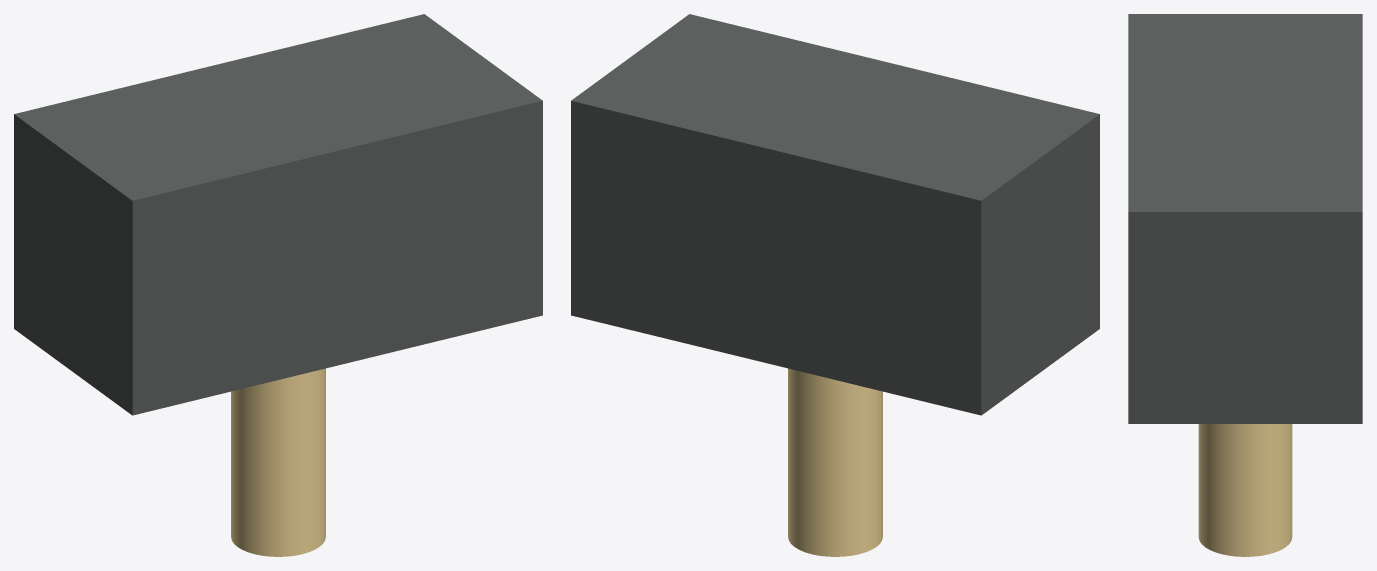
Rendered from hammer-model.glb.
3 renders of one model, left to right at view 1: azimuth 30°, elevation 25°; view 2: azimuth 150°, elevation 25°; view 3: azimuth 270°, elevation 25°, orthographic.
Bounding box in the file's own units: 1 × 1 × 0.5.
